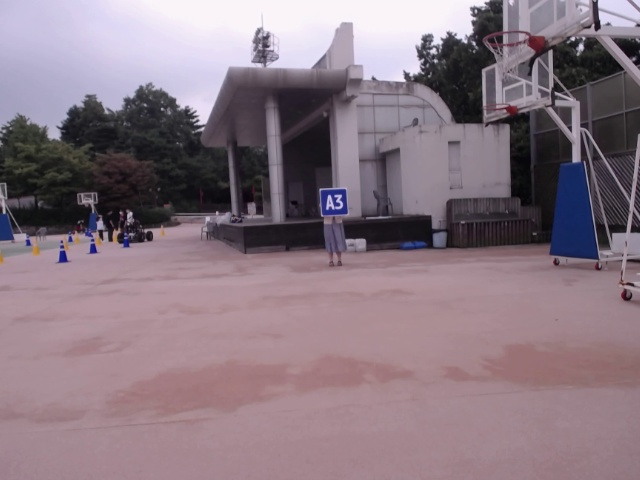delivery_a3: (320, 189, 349, 216)
